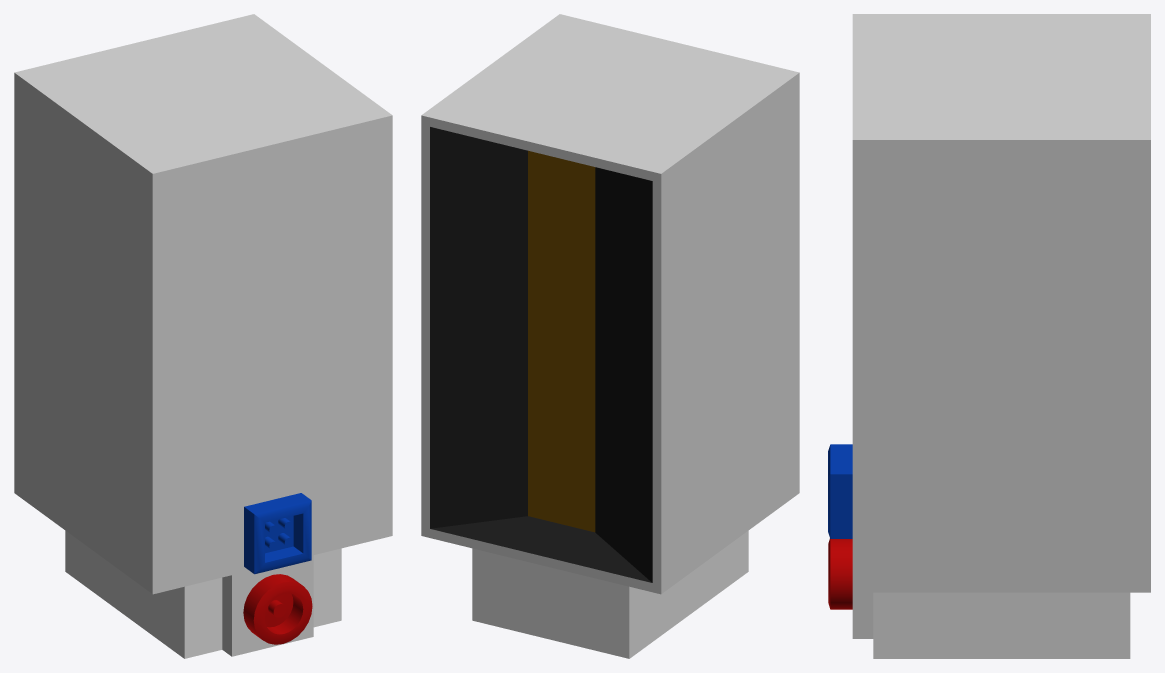
File: OreScanner.gltf
3 renders of one model, left to right at view 1: azimuth 30°, elevation 25°; view 2: azimuth 150°, elevation 25°; view 3: azimuth 270°, elevation 25°, orthographic. The views are drawn at different scales.
Parts seen in each view (by area): view 1: scanner; view 2: scanner; view 3: scanner.
Part boxes in pixels (bbox=[...]): scanner: bbox=[14, 14, 392, 658]; scanner: bbox=[421, 14, 799, 658]; scanner: bbox=[828, 14, 1150, 658].
Bounding box in the file's own units: 0.25 × 0.5 × 0.2706.
